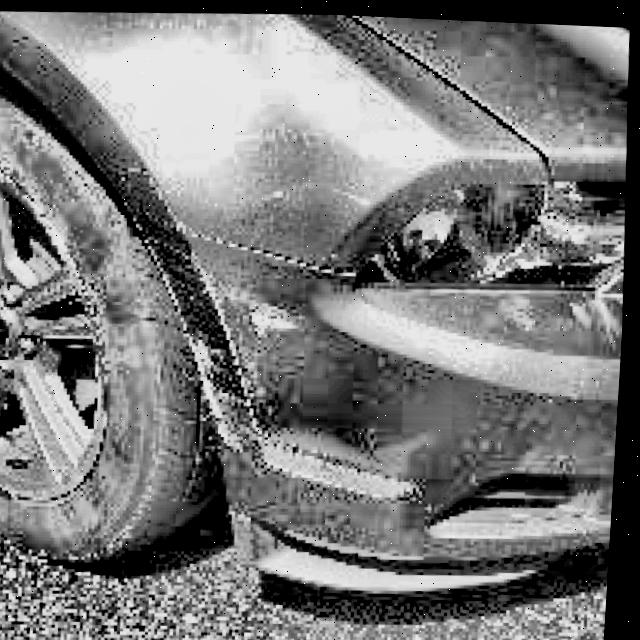bumper_scratch: (125, 163, 366, 289), (197, 332, 248, 459), (243, 279, 297, 349)
